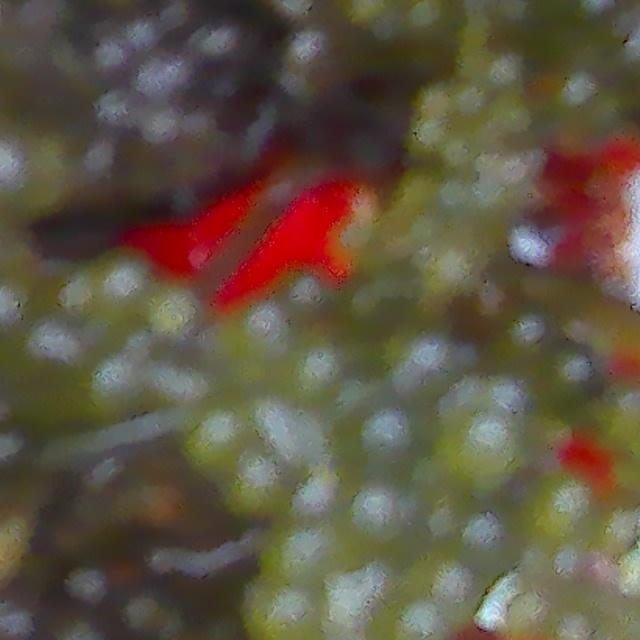SeaGrape: (434, 409, 525, 497), (287, 37, 345, 95), (135, 57, 196, 107), (196, 25, 249, 82), (348, 486, 402, 540), (111, 15, 165, 60), (79, 44, 134, 86), (93, 83, 134, 137), (0, 589, 29, 634)
